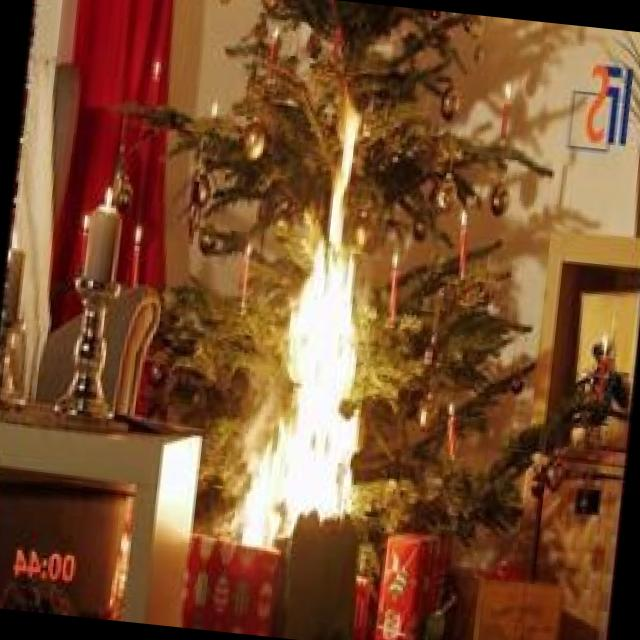fire: (220, 87, 427, 540)
